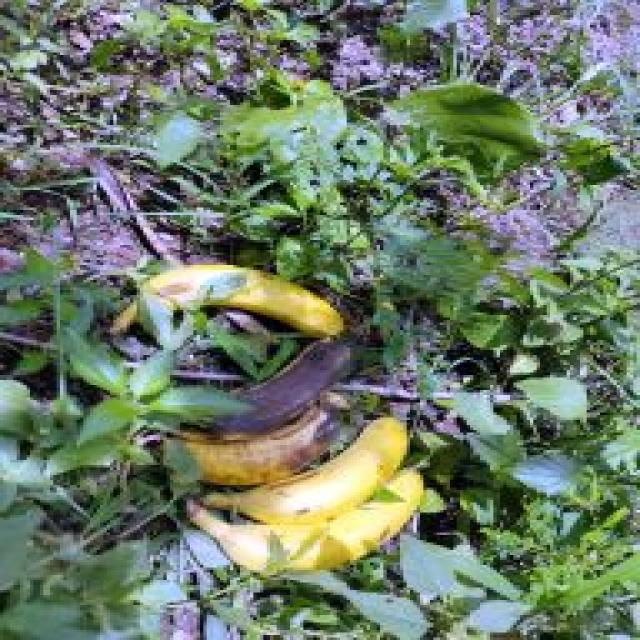Organik: (88, 231, 361, 355), (165, 460, 442, 575), (121, 332, 390, 434), (204, 406, 436, 517), (131, 402, 367, 486)
